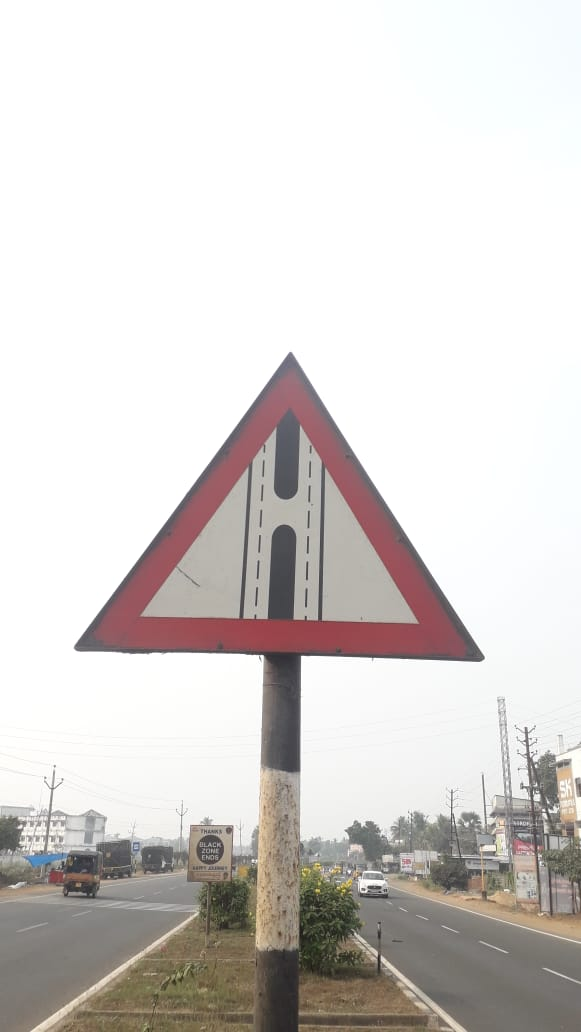highway go straight: (68, 319, 543, 702)
